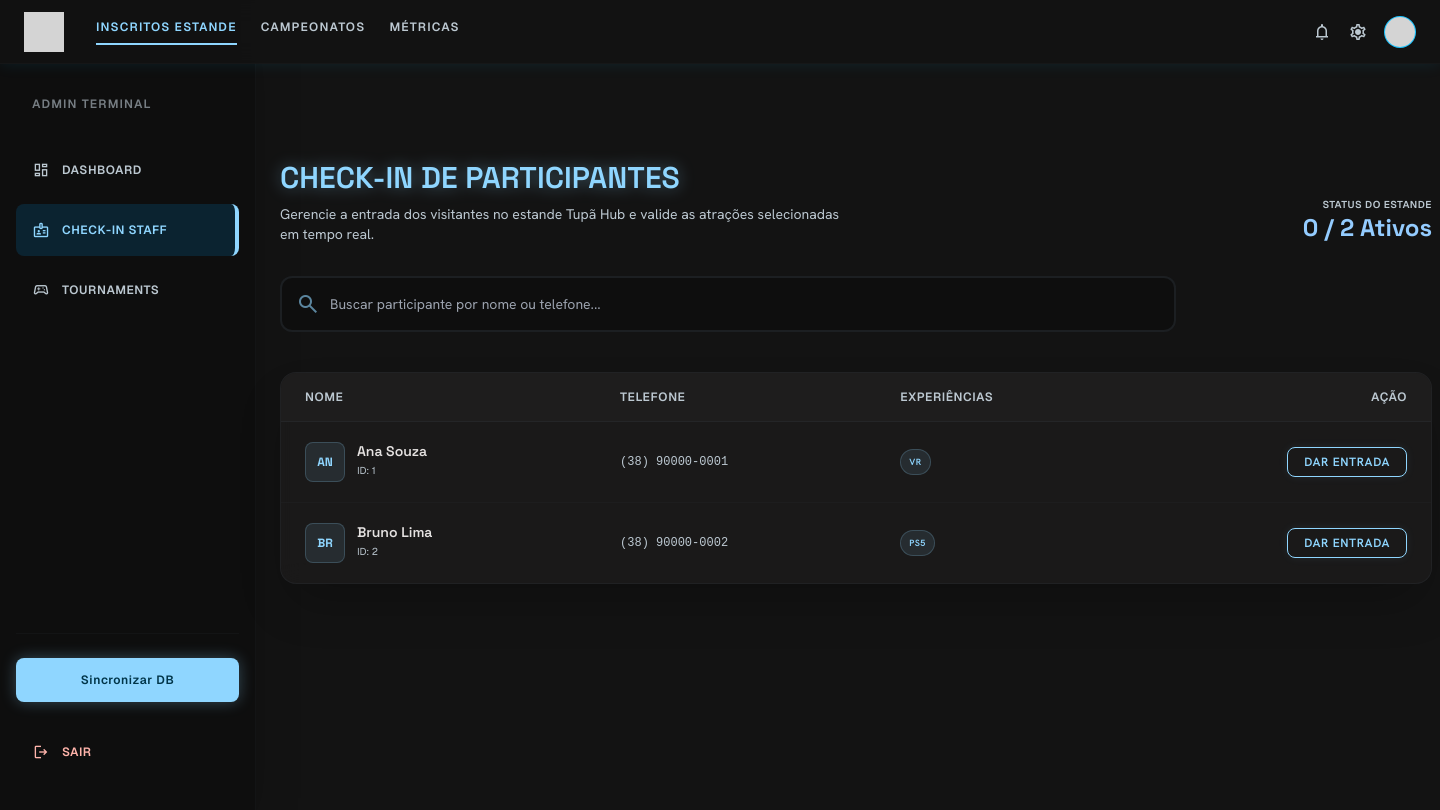
it: StaffCheckIn — check-in sem piscar › desfaz o check-in otimista se a gravação falhar
Click the button "Dar Entrada" in the row of "Ana Souza" at (1347, 462), box [1287,447,1407,477]
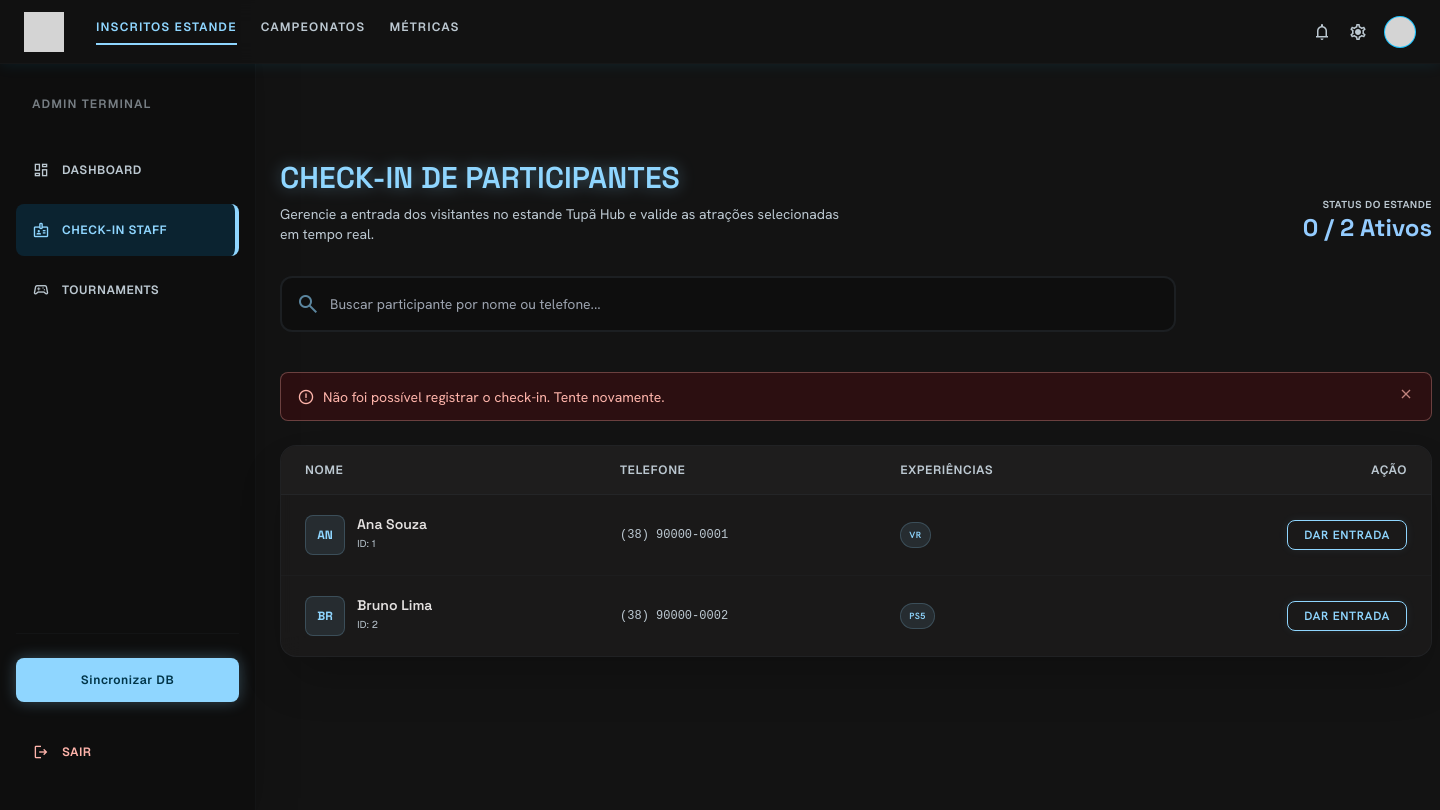
Now the message shows "Não foi possível registrar", box [323,388,665,406]
